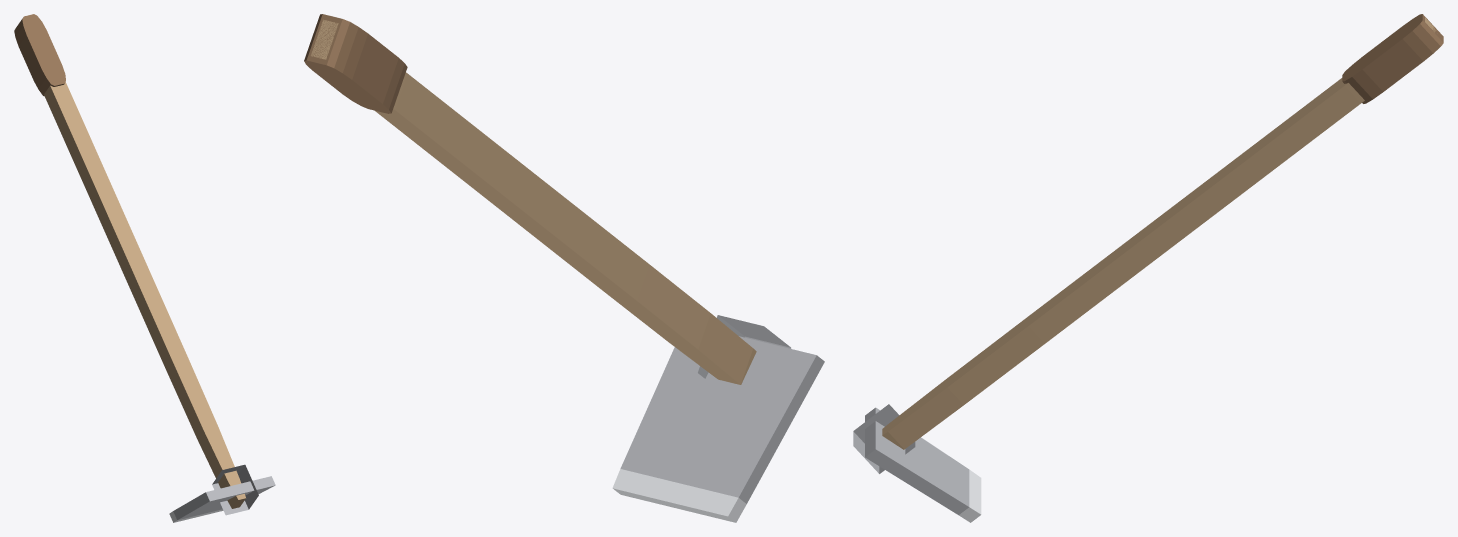
The model's file is hoe.glb.
The picture shows the model from 3 angles, left to right: view 1: azimuth 30°, elevation 25°; view 2: azimuth 150°, elevation 25°; view 3: azimuth 270°, elevation 25°; orthographic projection. The views are drawn at different scales.
Parts seen in each view (by area): view 1: Arm.R.Lower.Tool.Handle, Arm.R.Lower.Tool.Grip, Arm.R.Lower.Tool.Head, Arm.R.Lower.Tool.Socket; view 2: Arm.R.Lower.Tool.Handle, Arm.R.Lower.Tool.Head, Arm.R.Lower.Tool.Grip, Arm.R.Lower.Tool.Edge, Arm.R.Lower.Tool.Socket; view 3: Arm.R.Lower.Tool.Handle, Arm.R.Lower.Tool.Head, Arm.R.Lower.Tool.Grip, Arm.R.Lower.Tool.Socket, Arm.R.Lower.Tool.Edge.
Boxes of the visible parts, x1,y1,x2,y2 form: Arm.R.Lower.Tool.Handle: [44, 82, 245, 508]; Arm.R.Lower.Tool.Grip: [14, 14, 65, 96]; Arm.R.Lower.Tool.Head: [173, 476, 275, 520]; Arm.R.Lower.Tool.Socket: [212, 464, 258, 515]; Arm.R.Lower.Tool.Handle: [311, 19, 756, 384]; Arm.R.Lower.Tool.Head: [620, 336, 824, 503]; Arm.R.Lower.Tool.Grip: [304, 14, 407, 113]; Arm.R.Lower.Tool.Edge: [612, 469, 746, 522]; Arm.R.Lower.Tool.Socket: [698, 315, 791, 378]; Arm.R.Lower.Tool.Handle: [882, 17, 1436, 449]; Arm.R.Lower.Tool.Head: [865, 407, 969, 515]; Arm.R.Lower.Tool.Grip: [1342, 14, 1443, 103]; Arm.R.Lower.Tool.Socket: [853, 404, 915, 473]; Arm.R.Lower.Tool.Edge: [959, 469, 981, 522].
Size of the model in its own units: 0.17 by 0.9217 by 1.01.
